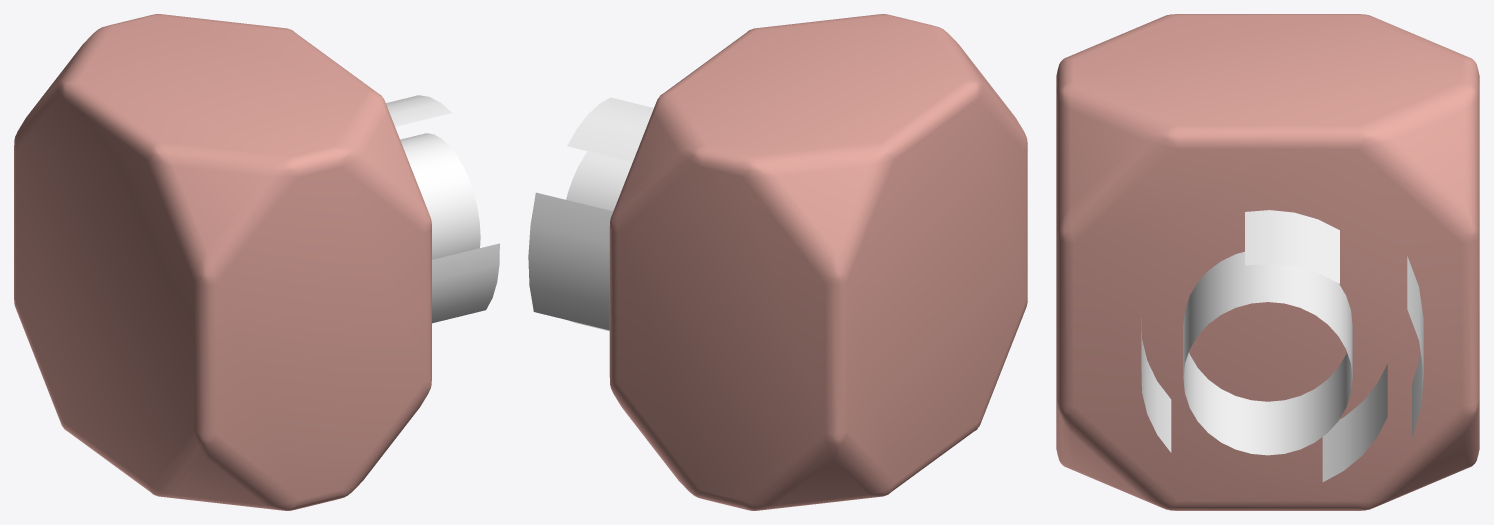
The model's file is welder_beam_source.glb.
3 renders of one model, left to right at view 1: azimuth 30°, elevation 25°; view 2: azimuth 150°, elevation 25°; view 3: azimuth 270°, elevation 25°, orthographic. The views are drawn at different scales.
Visible parts, largest first — view 1: welding_beam_source; view 2: welding_beam_source; view 3: welding_beam_source.
Boxes of the visible parts, x1,y1,x2,y2 form: welding_beam_source: (14, 14, 499, 510); welding_beam_source: (528, 14, 1027, 510); welding_beam_source: (1056, 14, 1479, 510).
Size of the model in its own units: 1 by 1 by 1.
